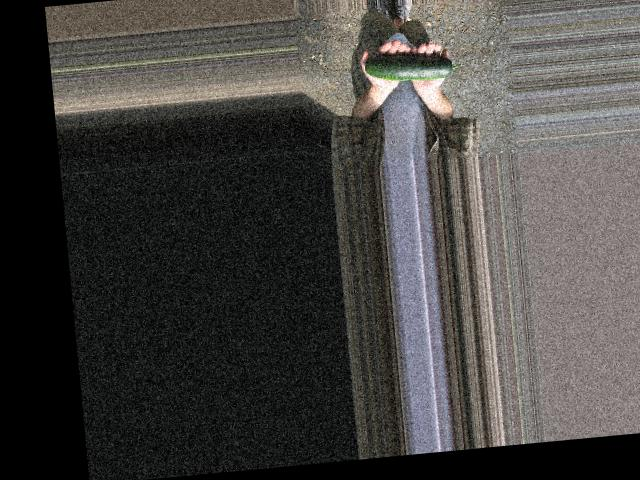cucumber: (365, 47, 464, 84)
